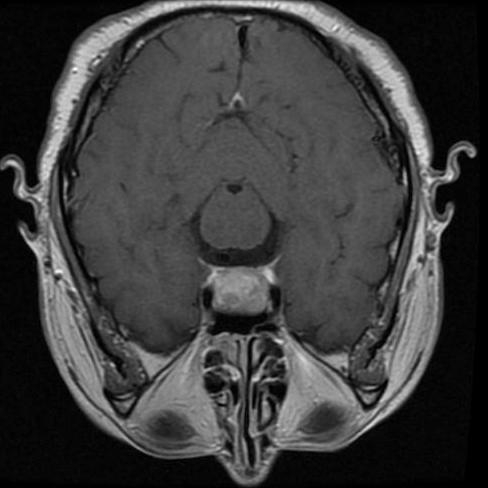Tumour-Pituitary: (202, 261, 285, 319)
